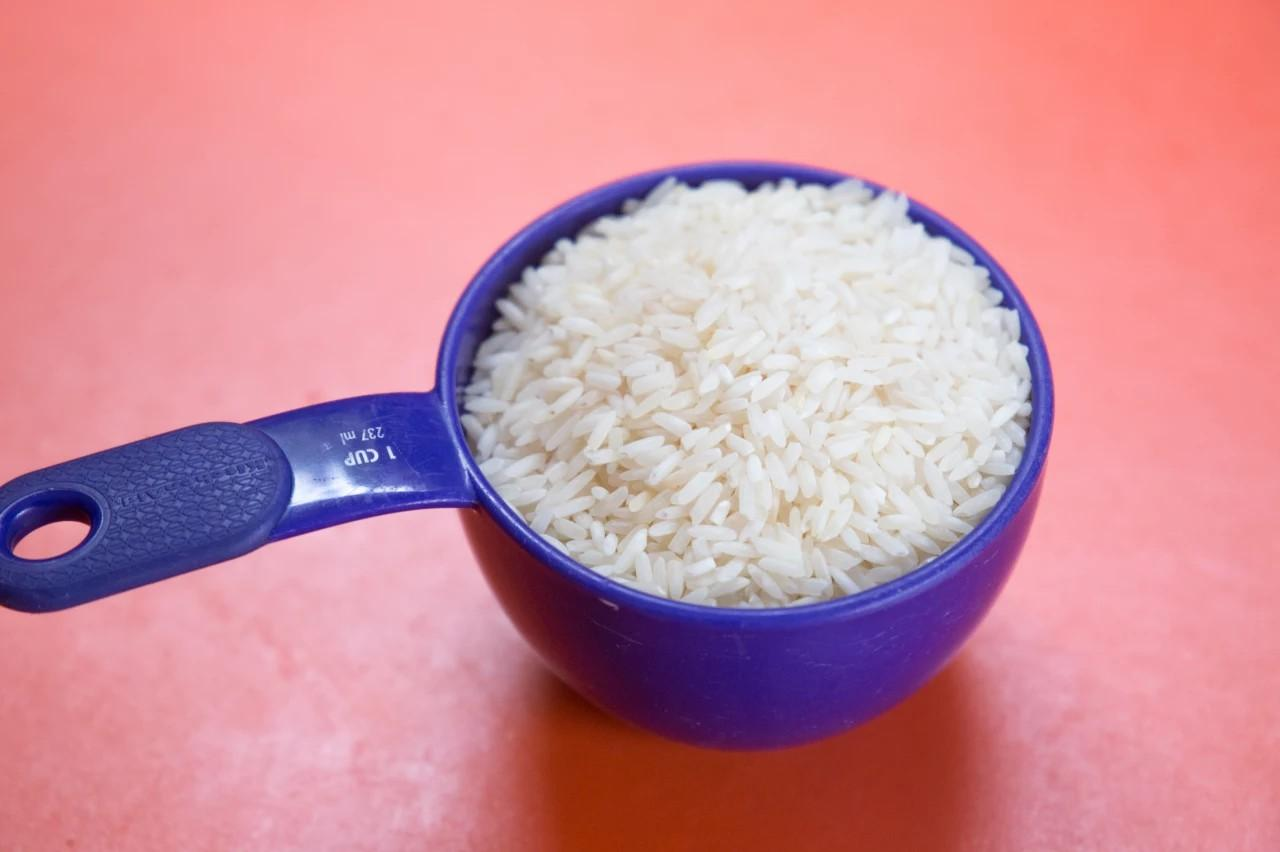WhiteRice: (459, 176, 1032, 607)
